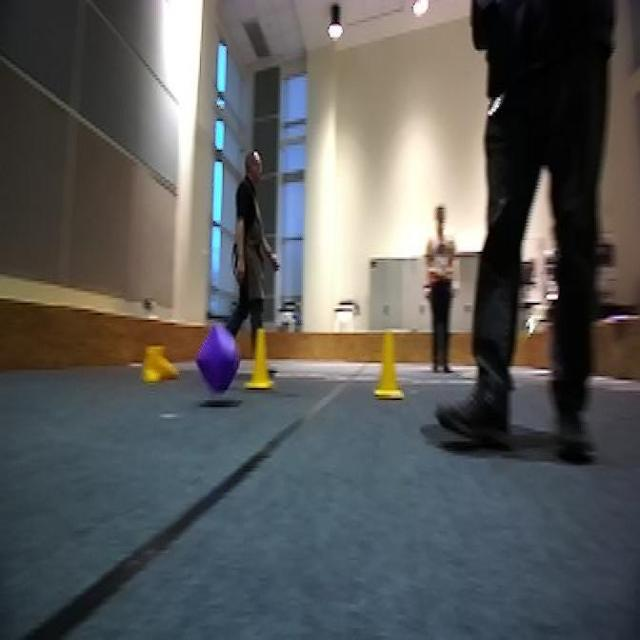frc_cone: (375, 328, 402, 398), (246, 328, 274, 392), (141, 340, 178, 385)
frc_cube: (198, 324, 239, 394)
